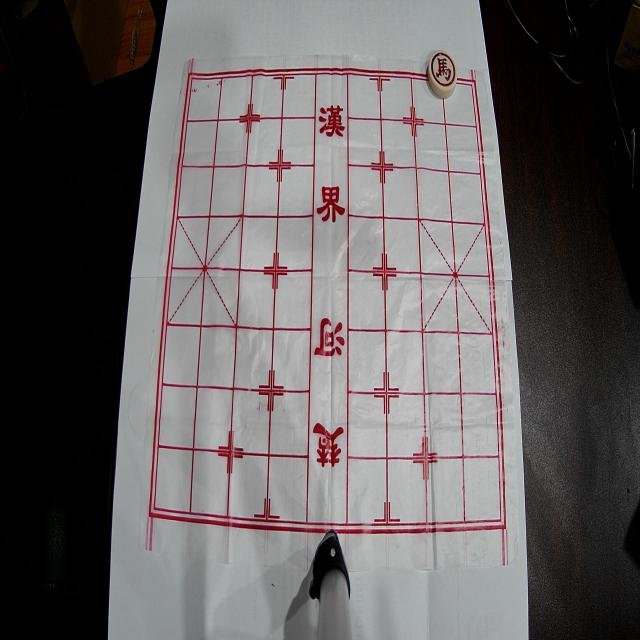red-horse: (428, 50, 457, 98)
